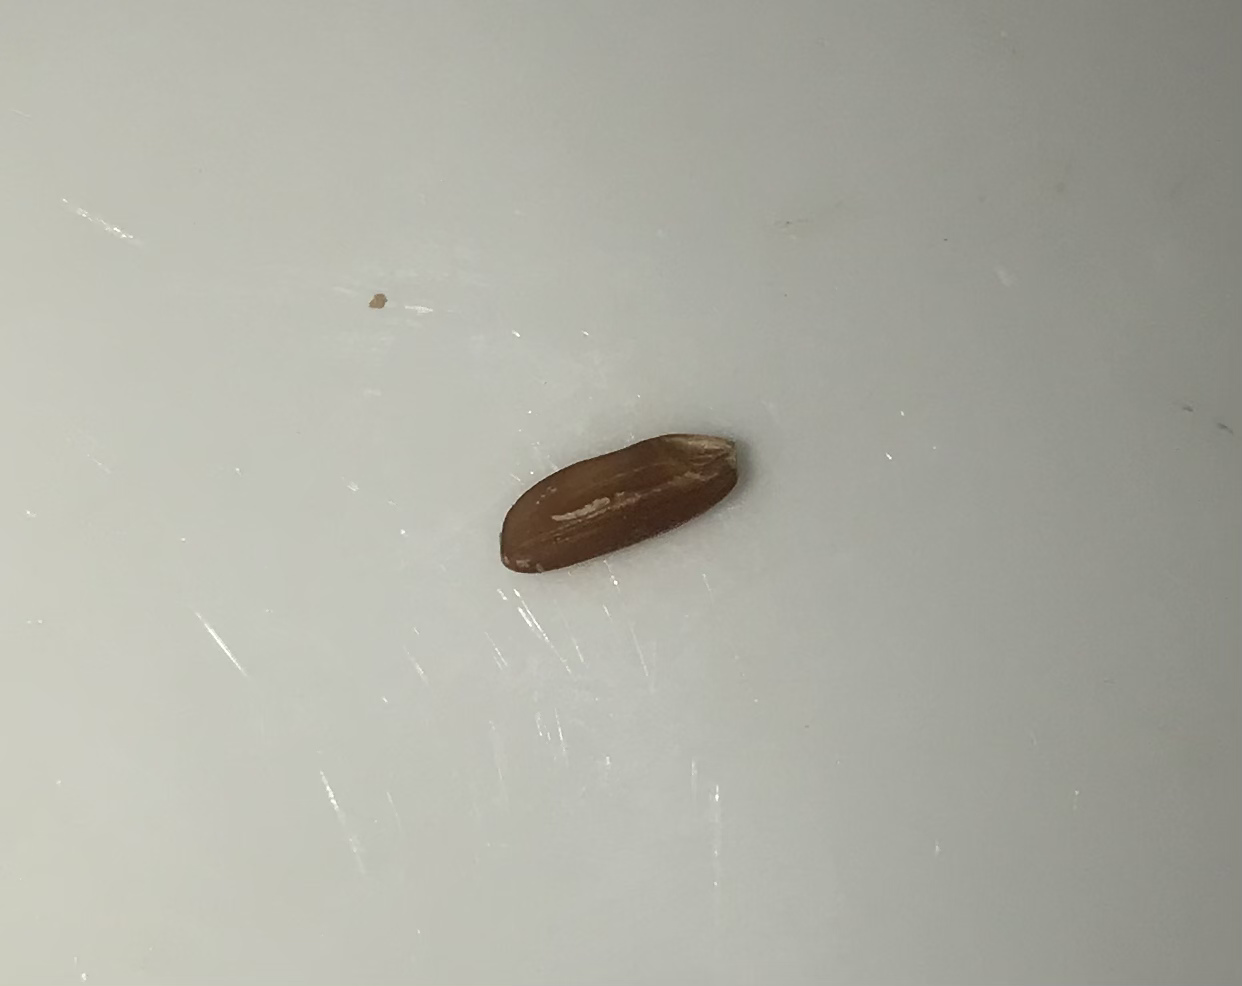Gao Lut Do: (497, 414, 746, 592)
